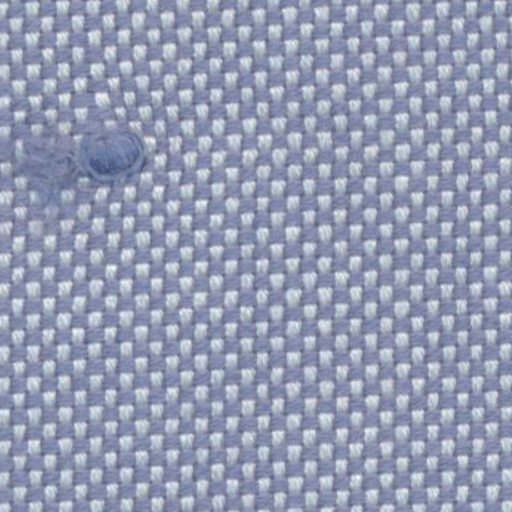MianQiu: (4, 90, 160, 224)
